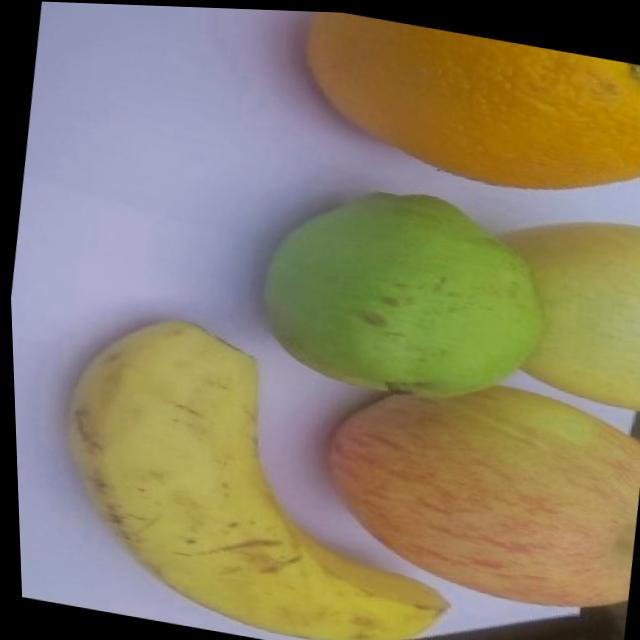Apple: (307, 354, 640, 618), (476, 199, 640, 410)
Banana: (36, 301, 481, 640)
Orange: (290, 8, 640, 212)
